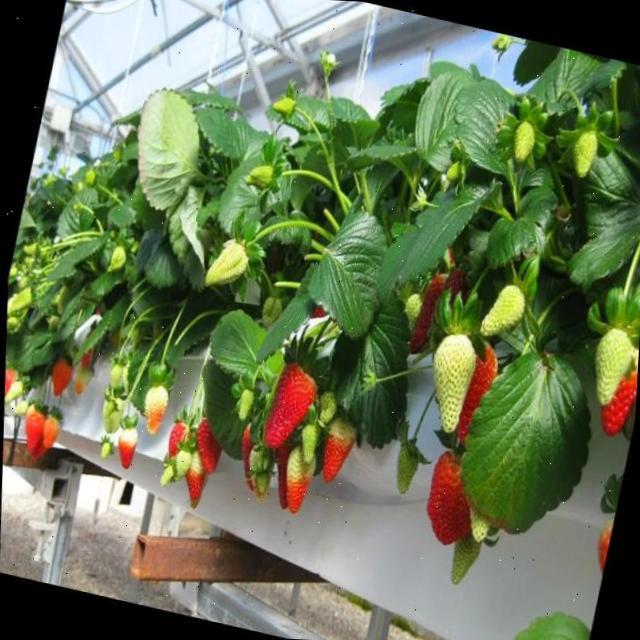ripe: (414, 448, 490, 548), (253, 355, 322, 463), (404, 270, 455, 360), (184, 416, 228, 477), (15, 407, 48, 458), (42, 358, 74, 404), (161, 421, 188, 463), (2, 366, 15, 400)
